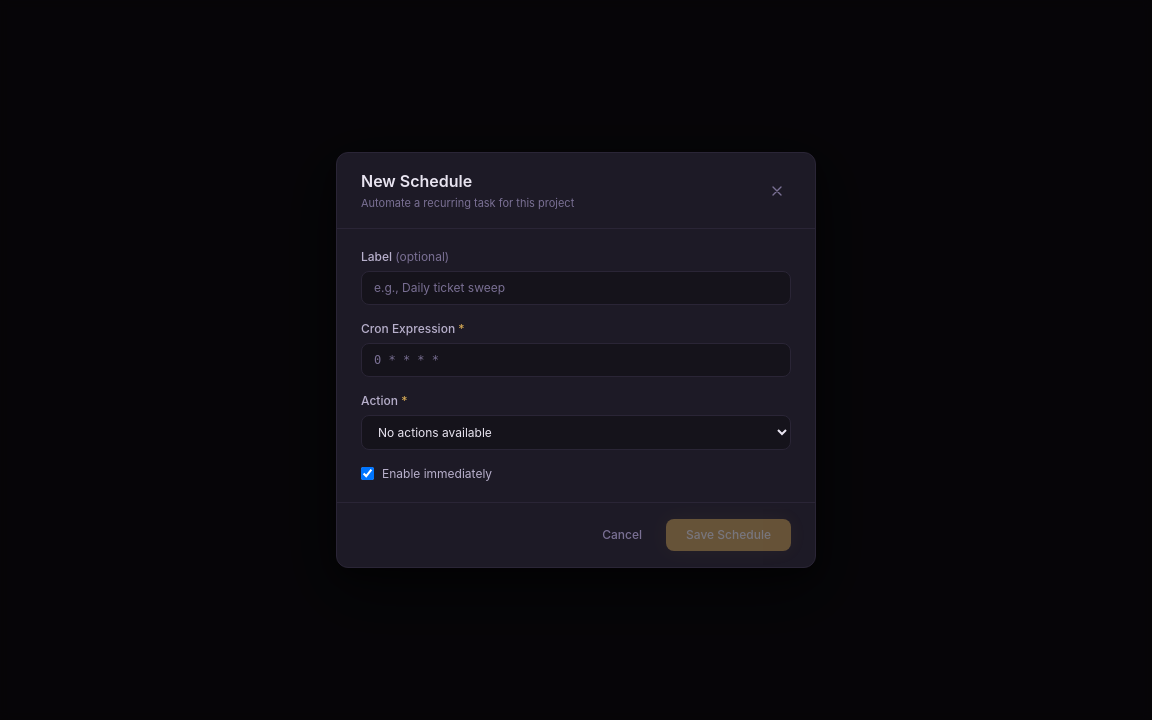
Scenario: NewScheduleModal › shows cron preview for valid expression
Type "*/5 * * * *" into the field with test id "new-schedule-cron" at (576, 360), box 361,343 -> 791,377
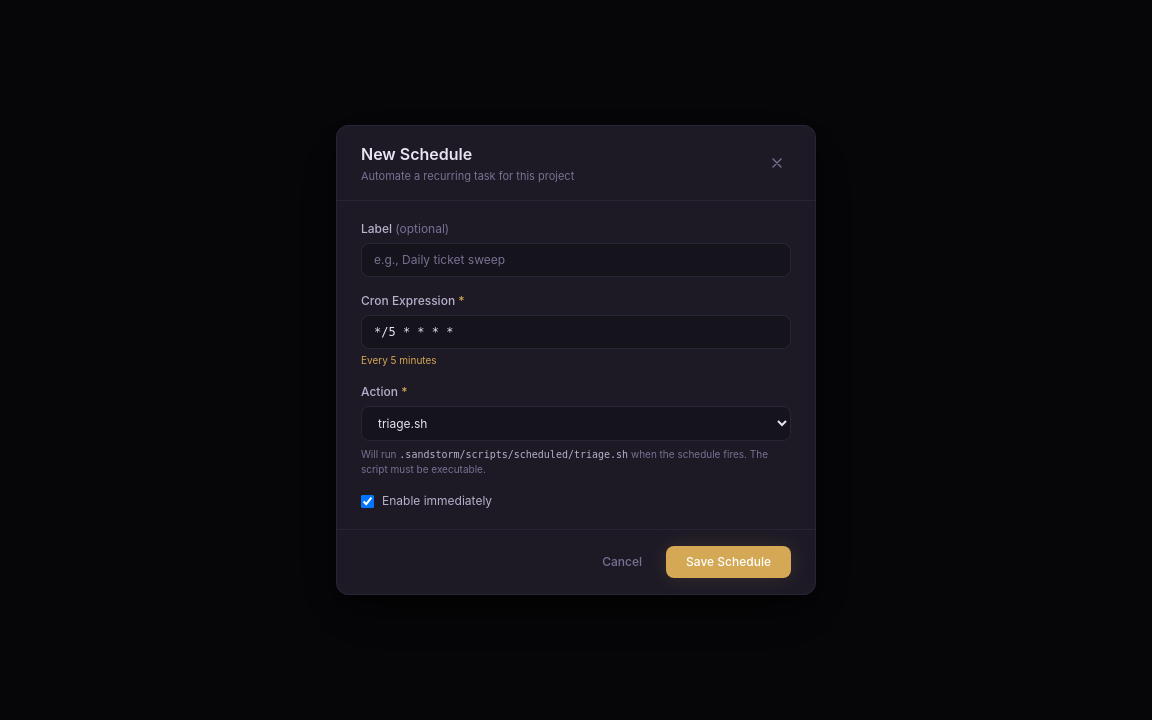
Result: the text with test id "new-schedule-cron-preview" reads "Every 5 minutes" at 361,354 -> 437,366
